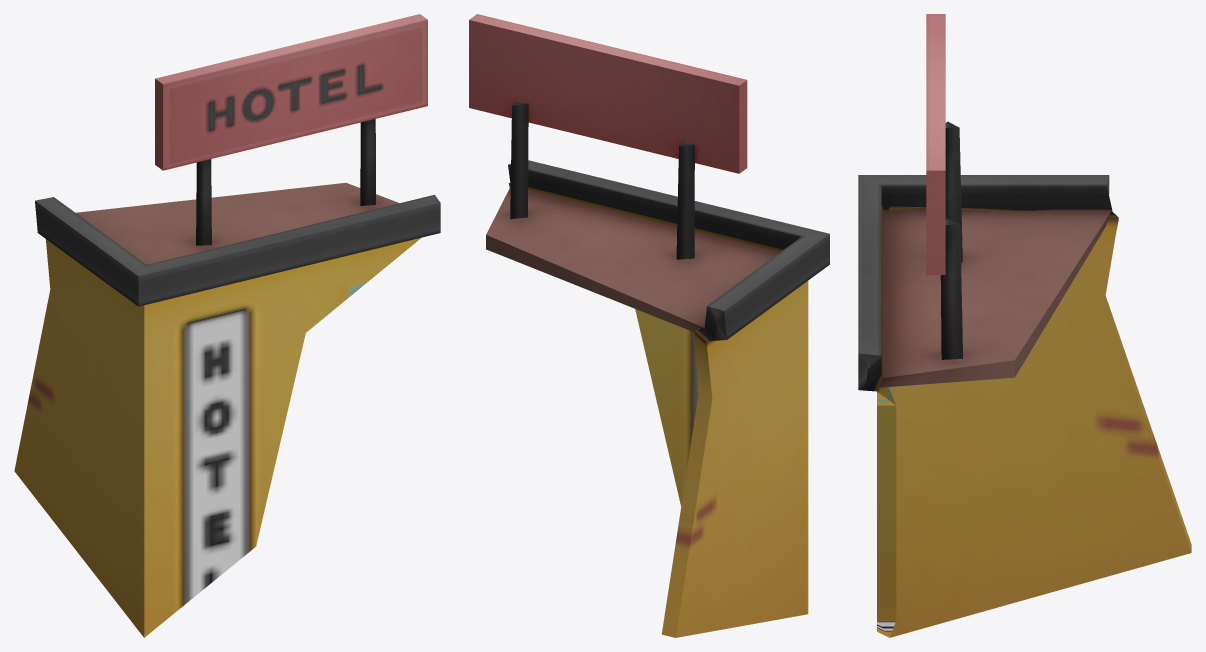
Rendered from B8Broke02.FBX.
3 renders of one model, left to right at view 1: azimuth 30°, elevation 25°; view 2: azimuth 150°, elevation 25°; view 3: azimuth 270°, elevation 25°, orthographic. The views are drawn at different scales.
Parts seen in each view (by area): view 1: B8Broke02; view 2: B8Broke02; view 3: B8Broke02.
Part boxes in pixels (left/top/right/bottom): B8Broke02: left=14, top=14, right=440, bottom=637; B8Broke02: left=469, top=14, right=829, bottom=637; B8Broke02: left=858, top=14, right=1191, bottom=637.
Size of the model in its own units: 43.01 by 68.46 by 32.28.
